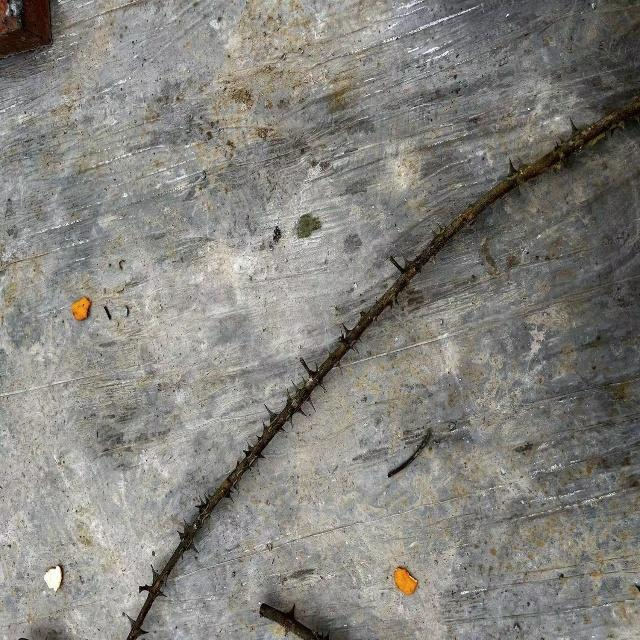branch: (176, 114, 626, 560)
